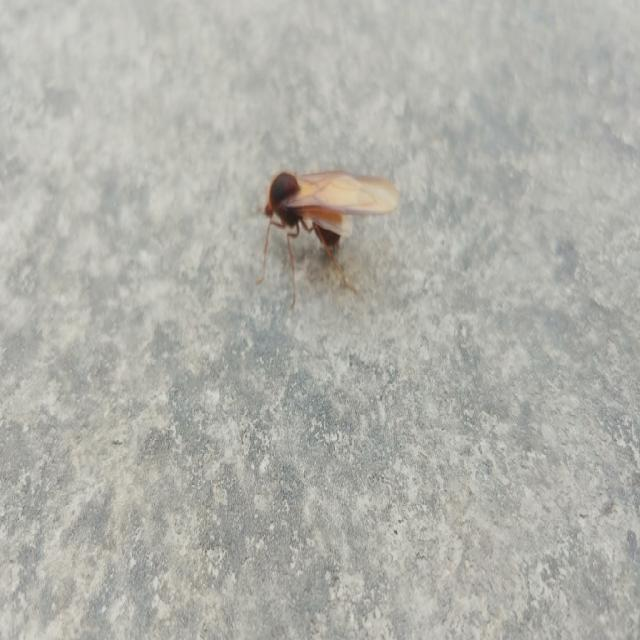Alive-Male-Alate: (249, 170, 400, 312)
